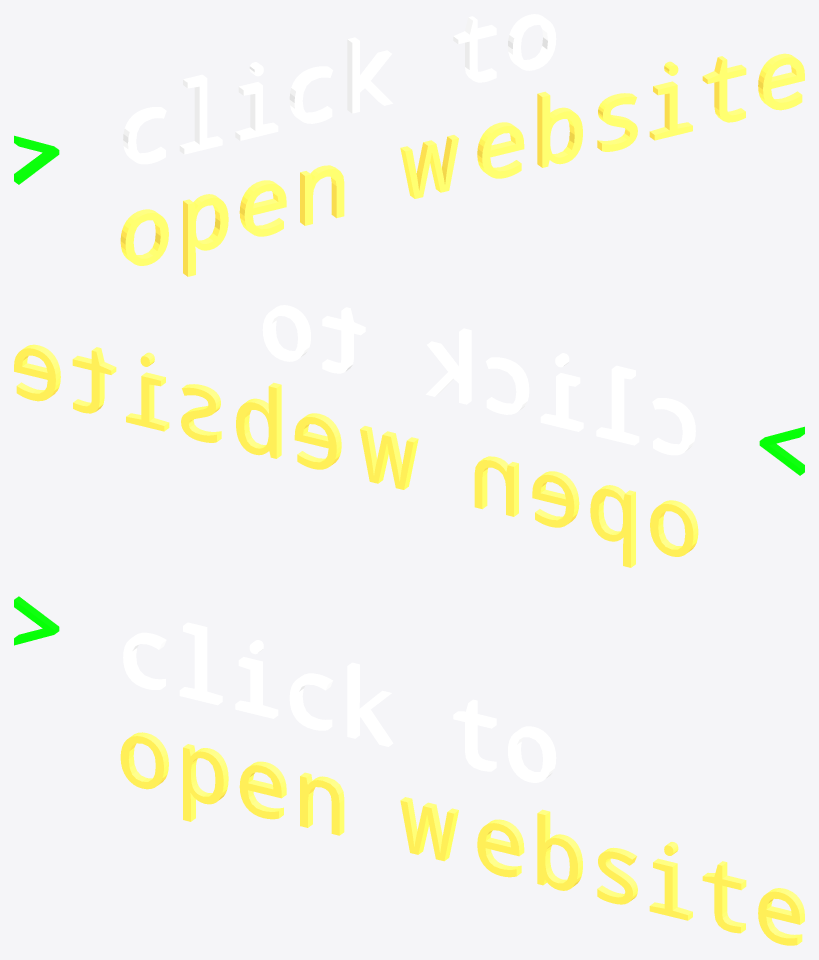
File: click_text.glb
3 views of the same model, one above another, from view 1: azimuth 30°, elevation 25°; view 2: azimuth 150°, elevation 25°; view 3: azimuth 330°, elevation 25° (orthographic).
Size of the model in its own units: 1.84 by 0.4334 by 0.02.
